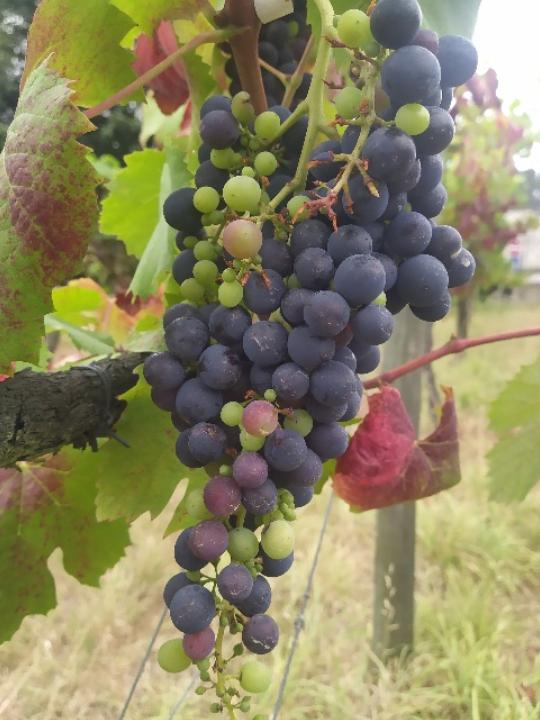grape: (144, 0, 475, 720)
